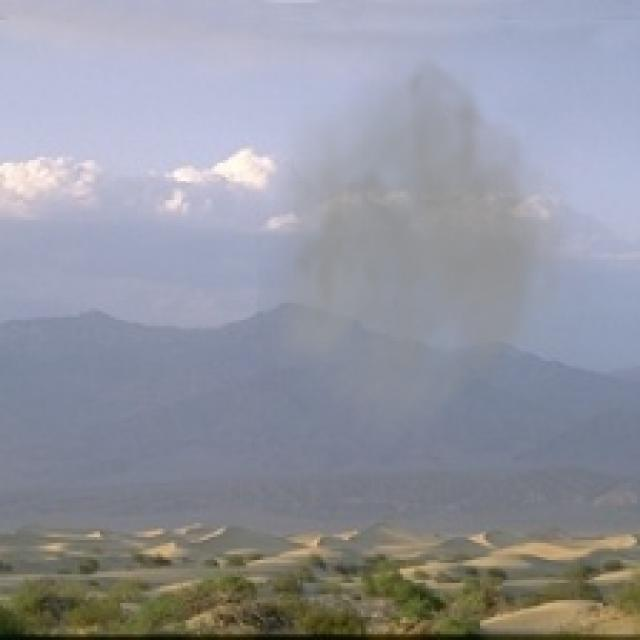smoke: (257, 37, 606, 460)
